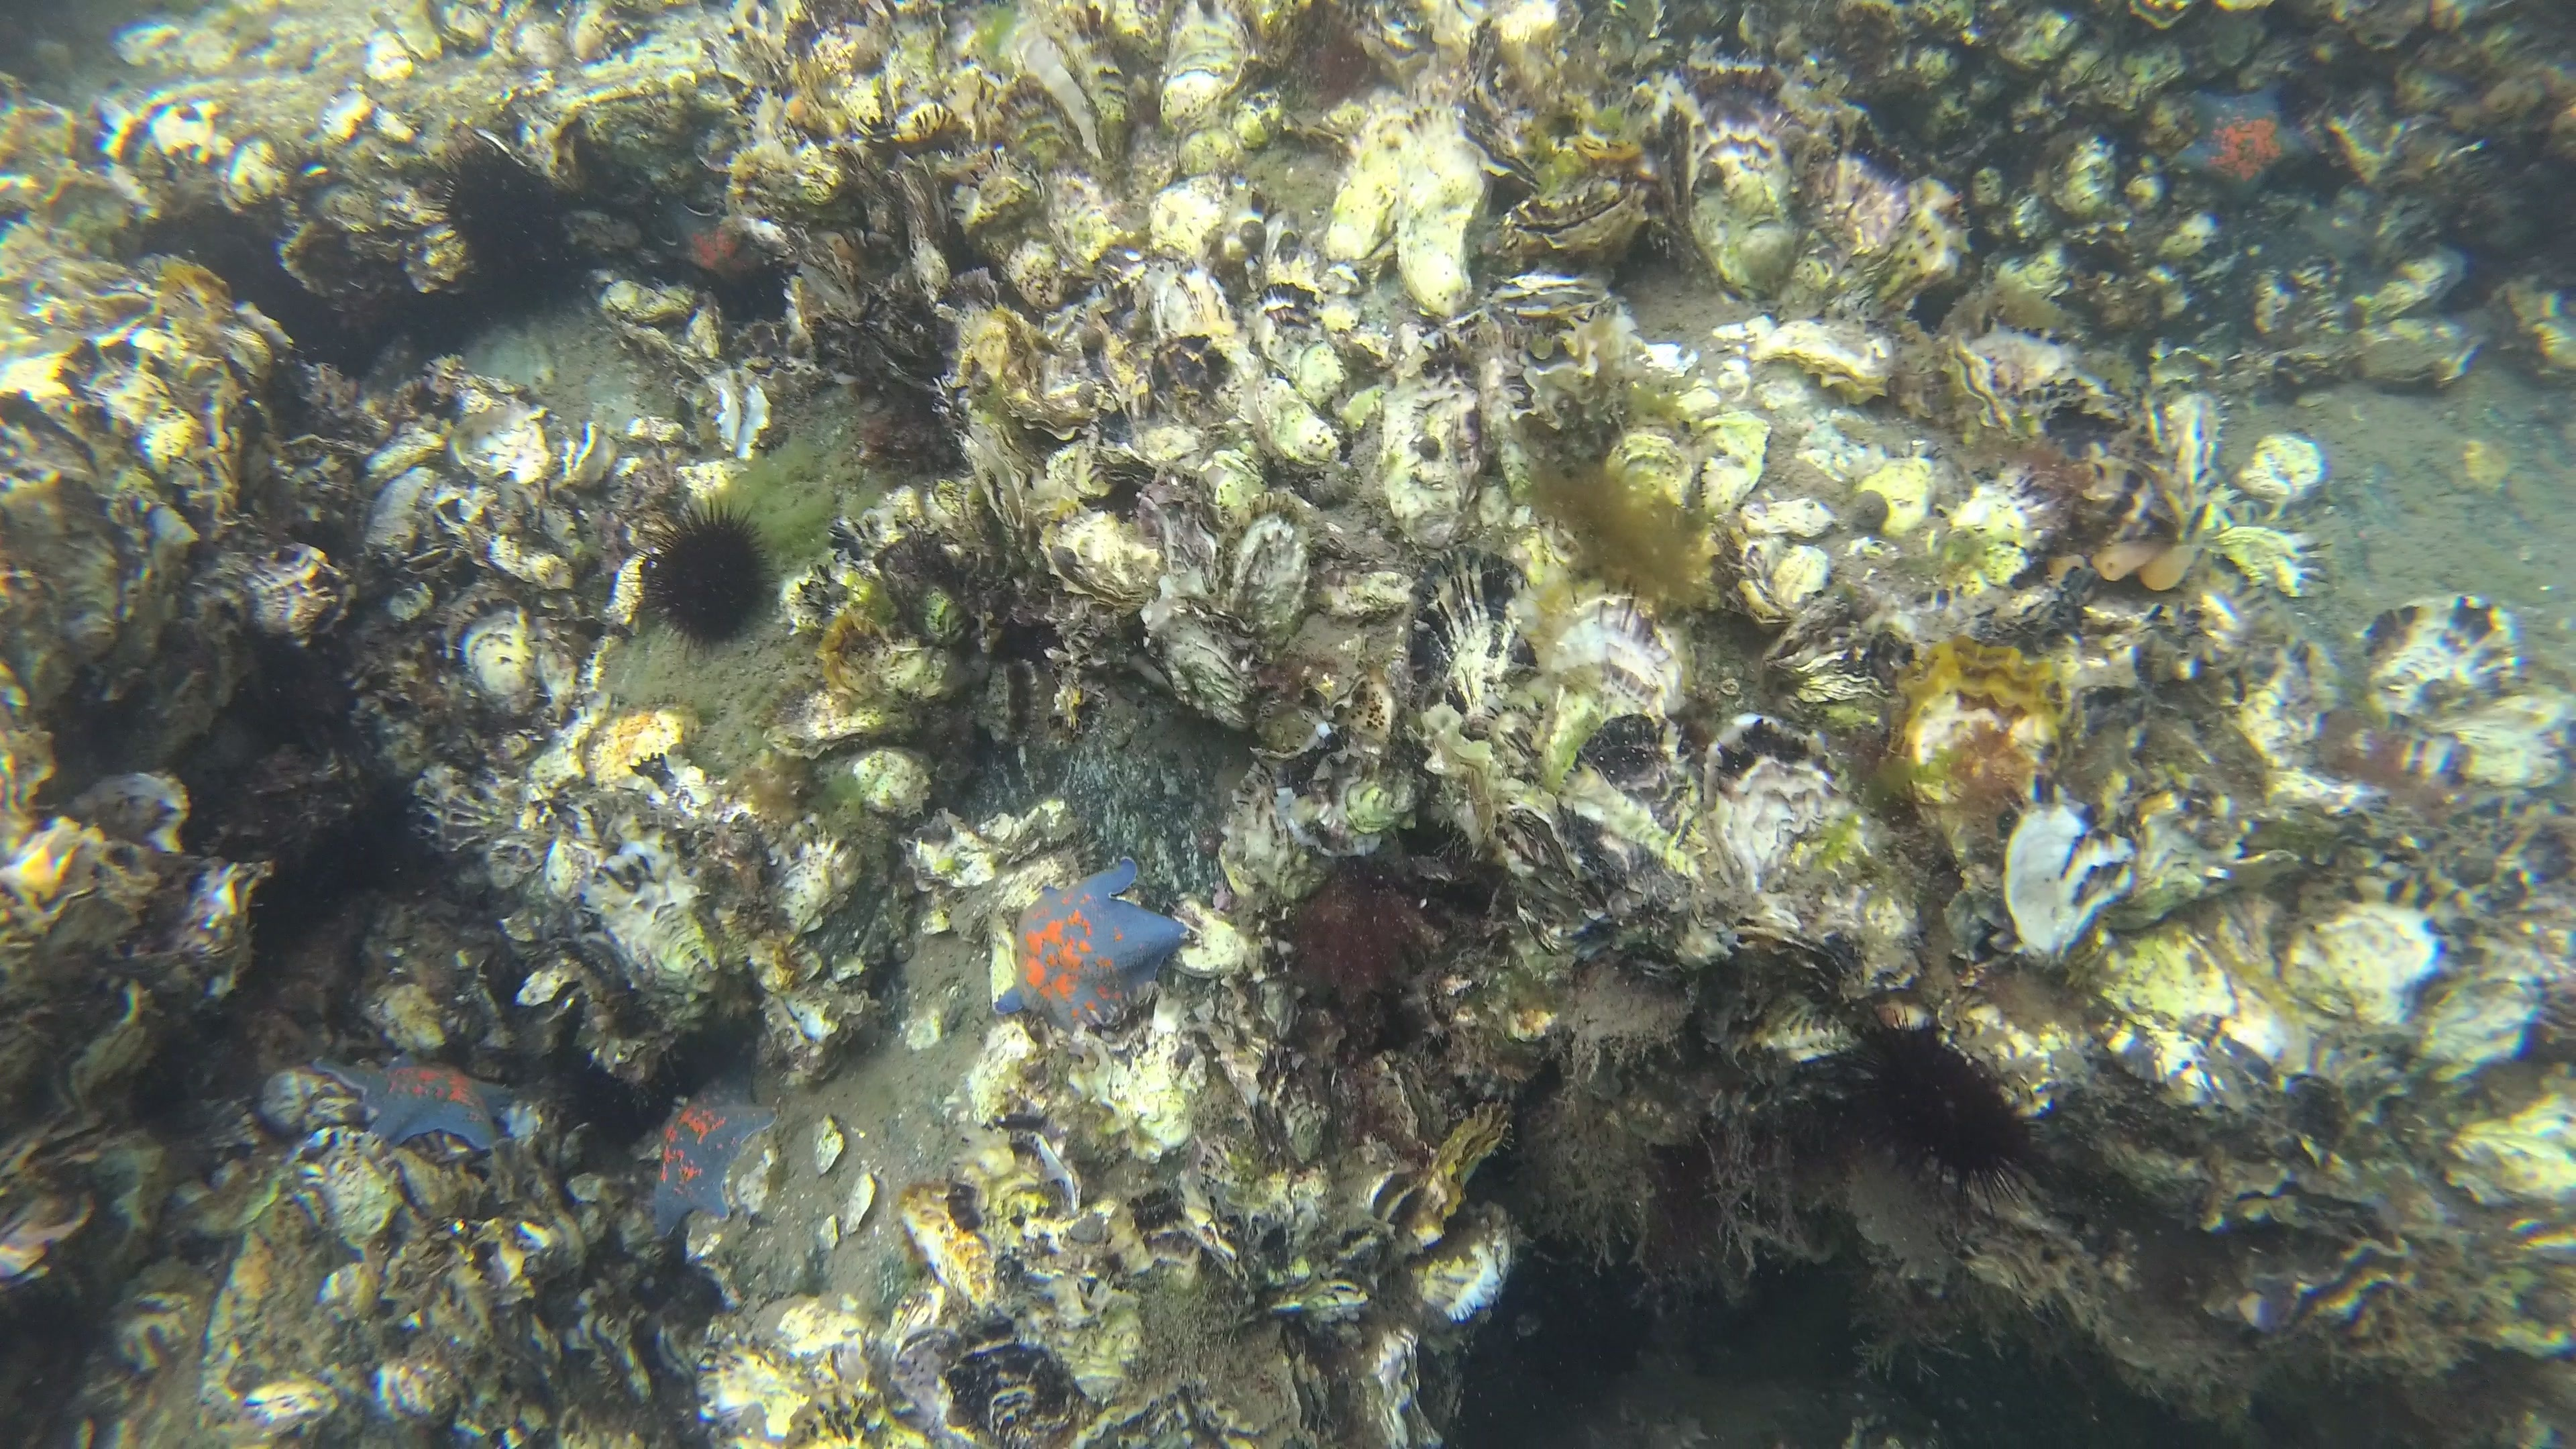echinus: (621, 497, 782, 658), (430, 138, 580, 294)
starfish: (989, 860, 1194, 1040), (308, 1049, 527, 1157), (2166, 80, 2319, 212), (649, 1085, 780, 1240), (642, 188, 771, 294)
